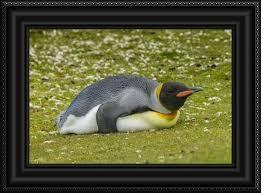king: (51, 62, 206, 140)
